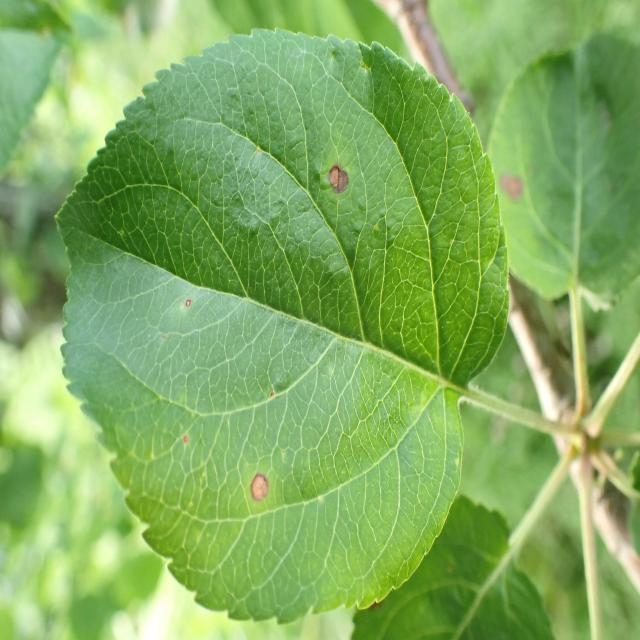frog-eye-leaf-spot: (55, 29, 512, 624), (487, 30, 640, 311)
